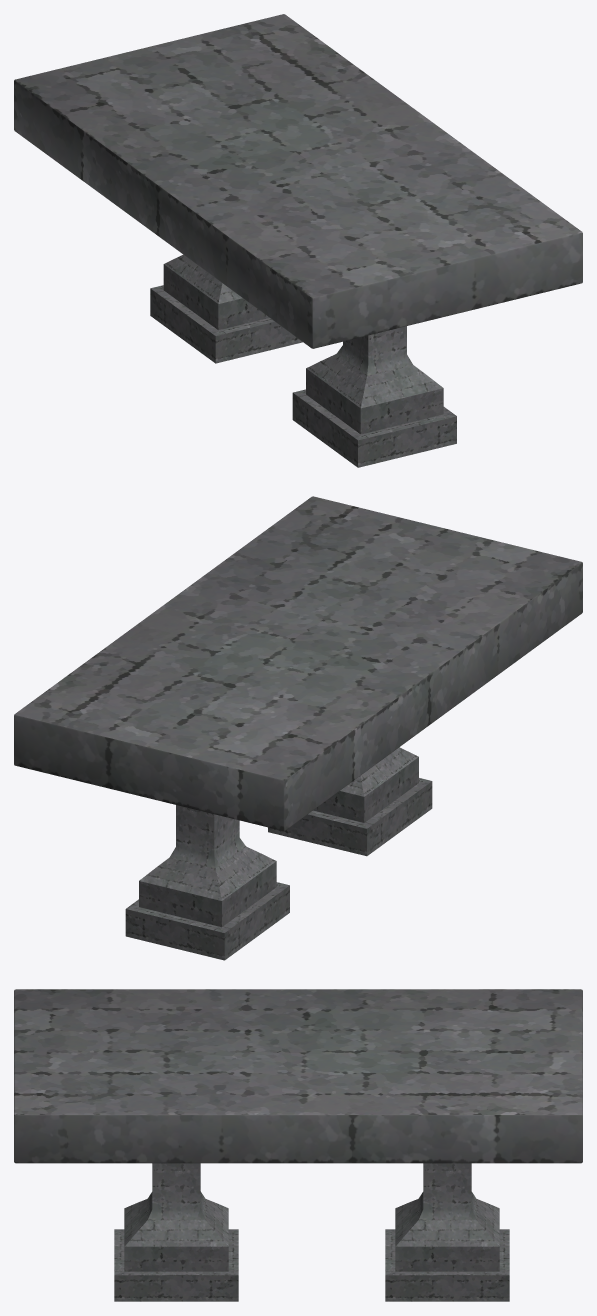
Rendered from Table_A.fbx.
3 renders of one model, top to bottom at view 1: azimuth 30°, elevation 25°; view 2: azimuth 150°, elevation 25°; view 3: azimuth 270°, elevation 25°, orthographic. The views are drawn at different scales.
Visible parts, largest first — view 1: Table_A; view 2: Table_A; view 3: Table_A.
Boxes of the visible parts, bbox=[...] form: Table_A: bbox=[14, 14, 582, 467]; Table_A: bbox=[14, 496, 582, 960]; Table_A: bbox=[14, 989, 582, 1301].
Size of the model in its own units: 110 by 90 by 210.
Materials: 1 (1 with a texture image).
